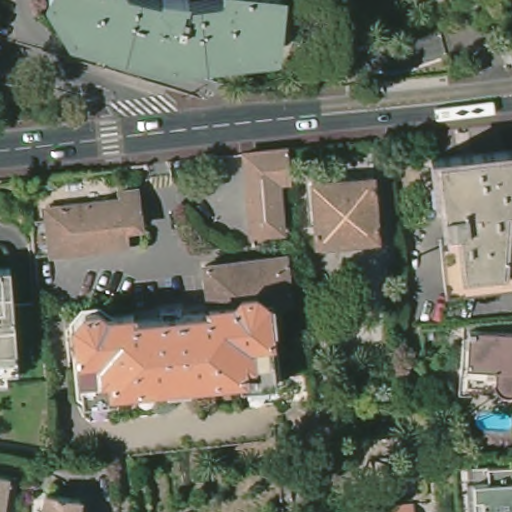pool: (475, 405, 512, 433)
